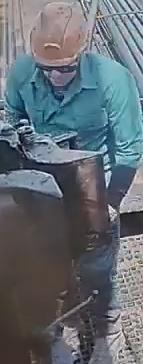gloves: (106, 183, 125, 230)
goggles: (34, 60, 77, 75)
helmet: (28, 0, 89, 67)
vest: (2, 53, 140, 171)
